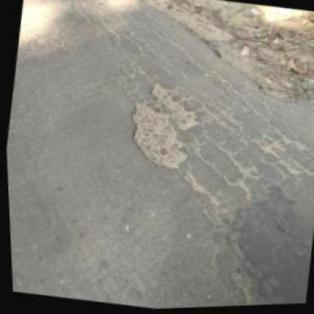Hueco: (118, 76, 208, 176)
